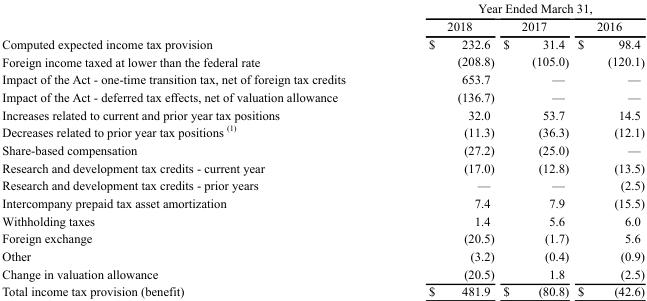table: (1, 1, 643, 298)
table column: (1, 1, 386, 298), (386, 1, 498, 298), (498, 1, 572, 298), (572, 1, 643, 298)
table column header: (1, 1, 643, 34)
table row: (1, 34, 643, 52), (1, 52, 643, 70), (1, 87, 643, 105), (1, 122, 643, 140), (1, 140, 643, 158), (1, 158, 643, 176), (1, 193, 643, 211), (1, 211, 643, 229), (1, 246, 643, 264), (1, 264, 643, 282), (1, 17, 643, 34), (1, 70, 643, 87), (1, 105, 643, 122), (1, 176, 643, 193), (1, 229, 643, 246), (1, 1, 643, 17), (1, 282, 643, 298)
table spanning cell: (386, 1, 643, 17)
